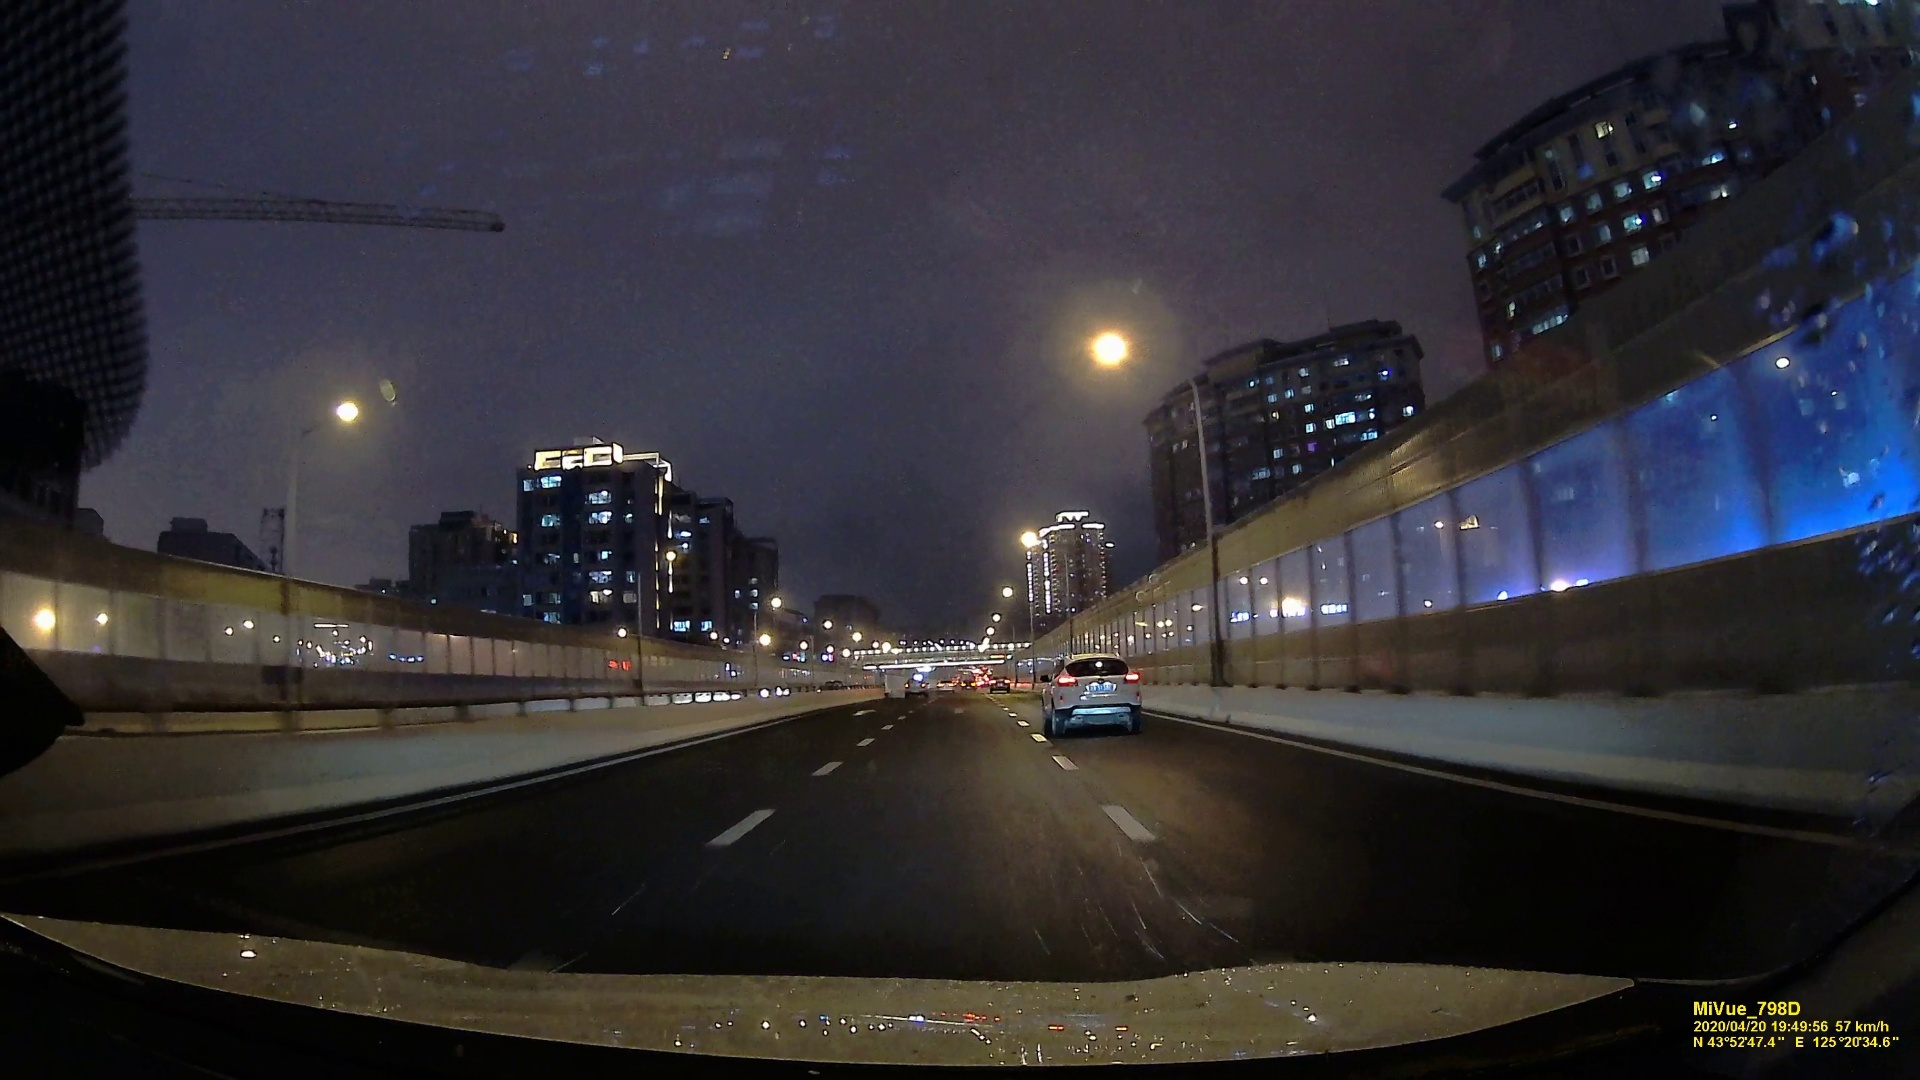vehicle: (1040, 655, 1139, 732), (905, 678, 930, 699), (988, 675, 1011, 695), (936, 678, 956, 695)
